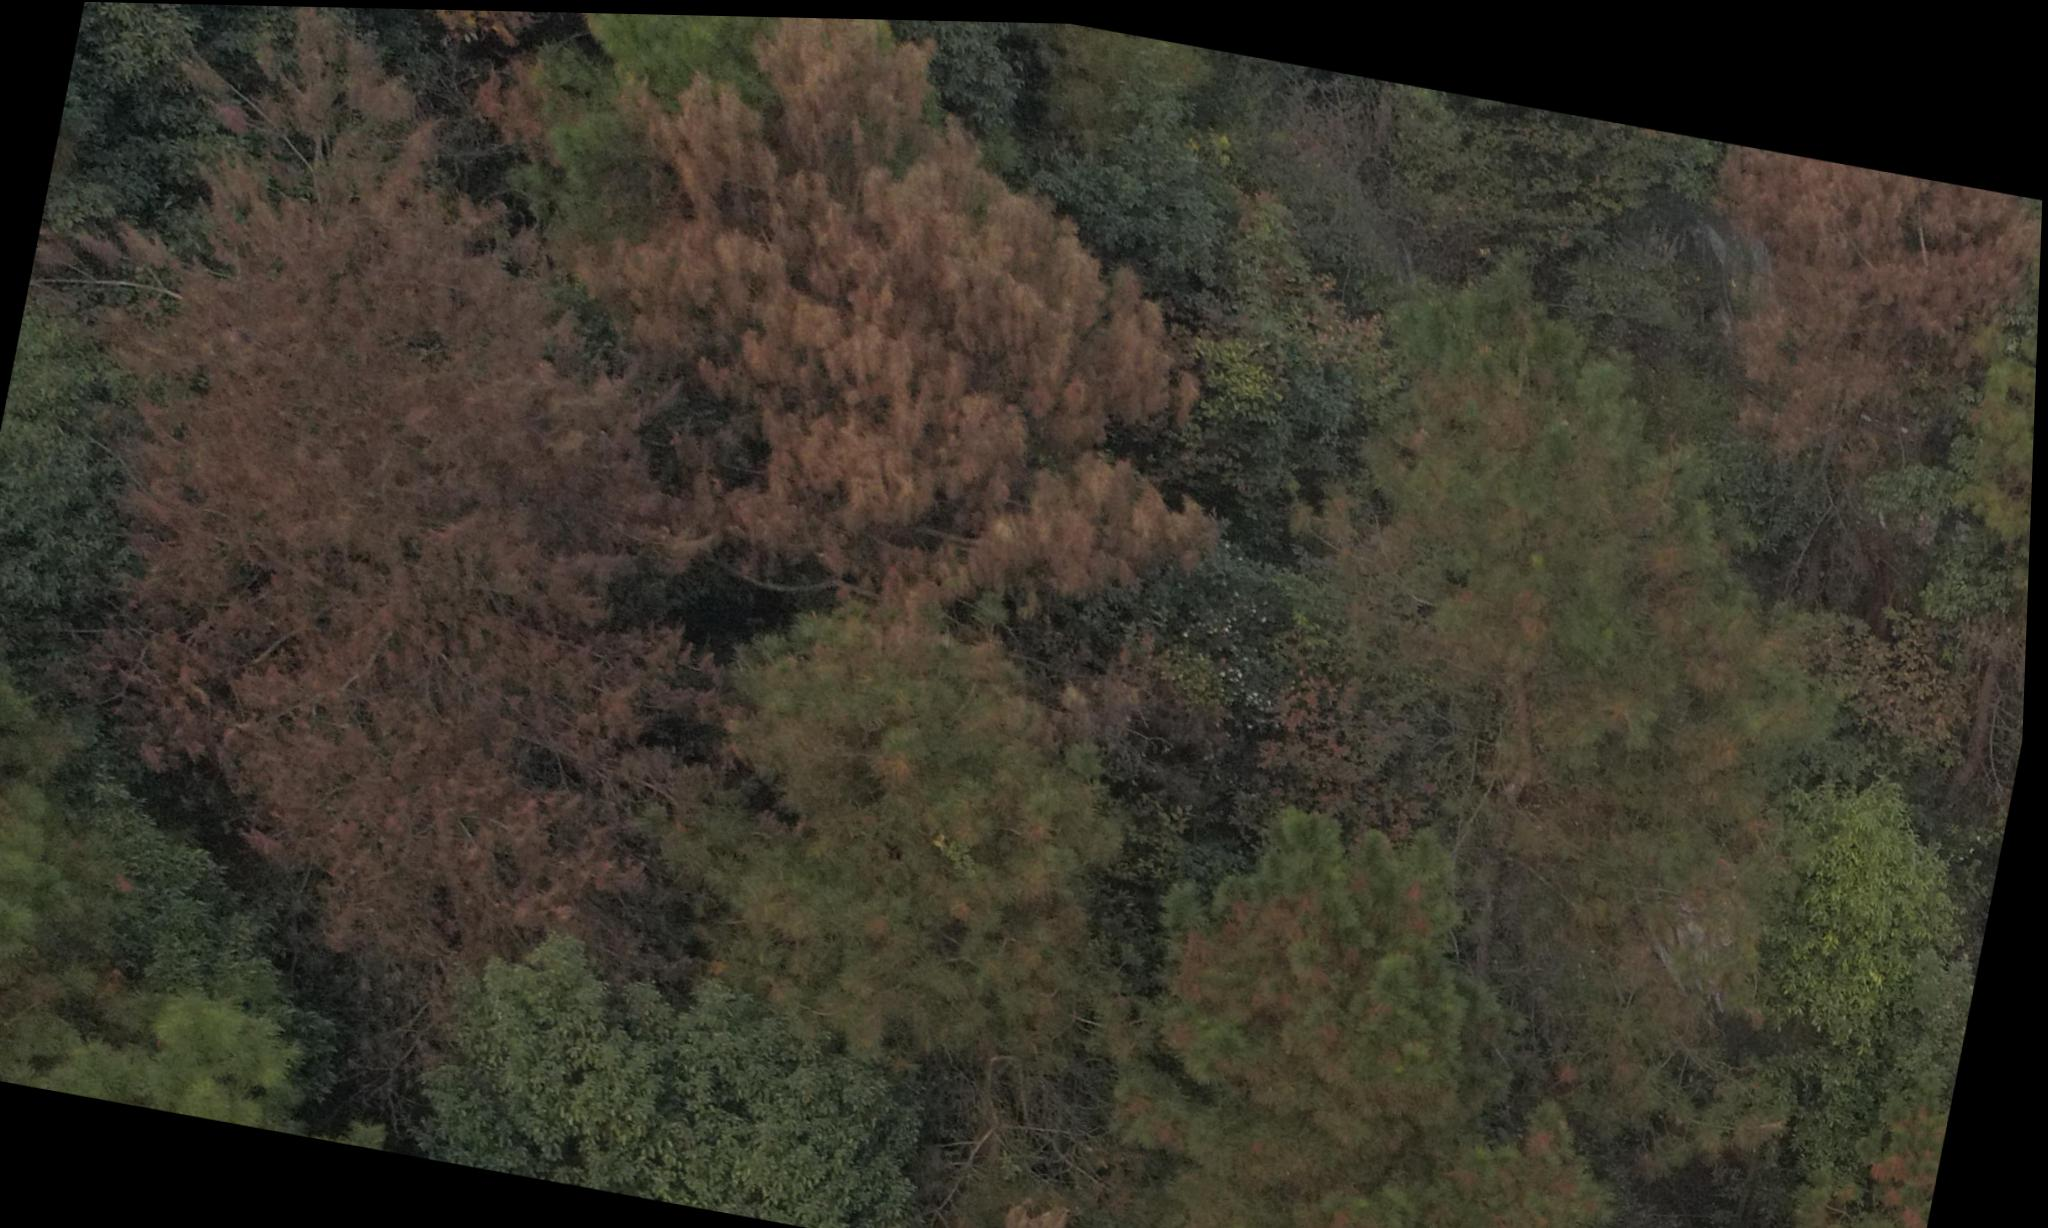heavy: (15, 3, 816, 1036), (490, 9, 1332, 674), (1631, 127, 2045, 478)
light: (1060, 754, 1681, 1228), (332, 6, 702, 177)
